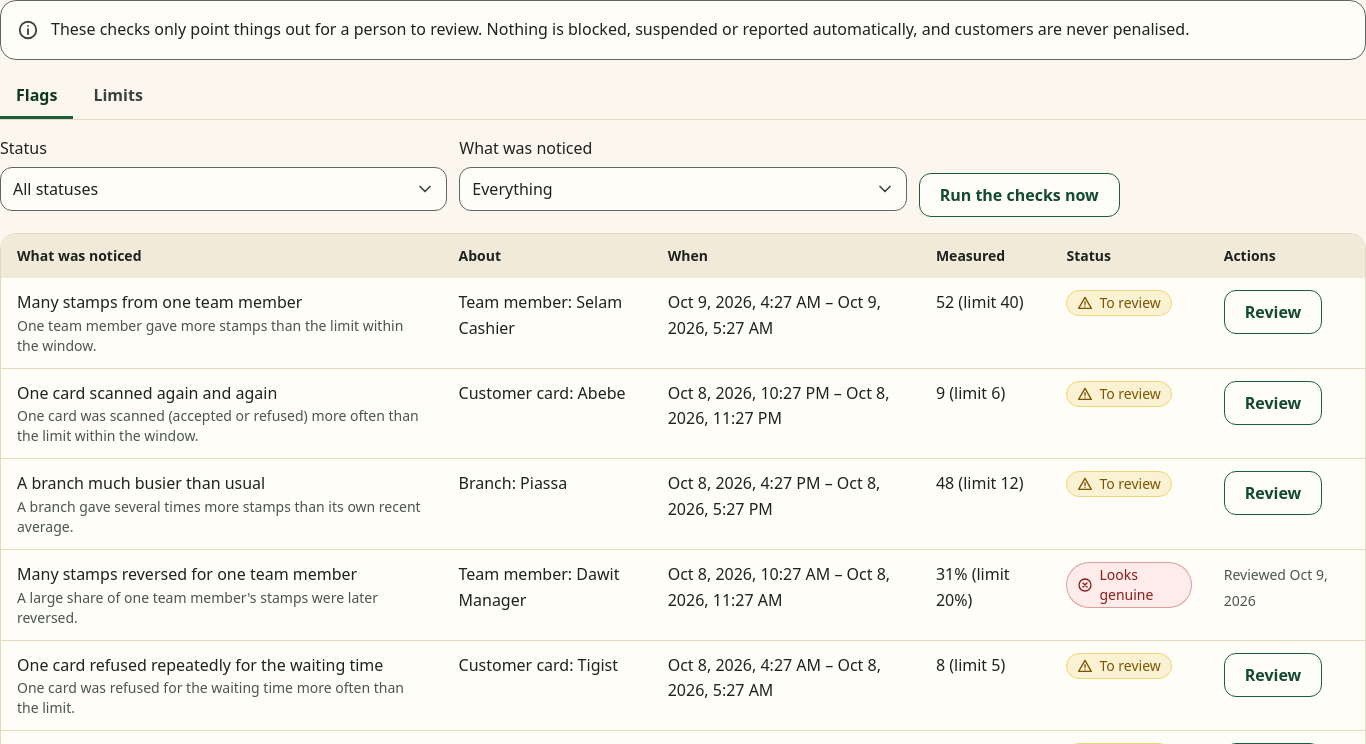
Scenario: flags › lets an owner review a flag once, with a verdict and an optional note
This screenshot has width=1366, height=744.
Click the 1st button "Review" at (1273, 312), box x1=1224 y1=290 x2=1322 y2=334
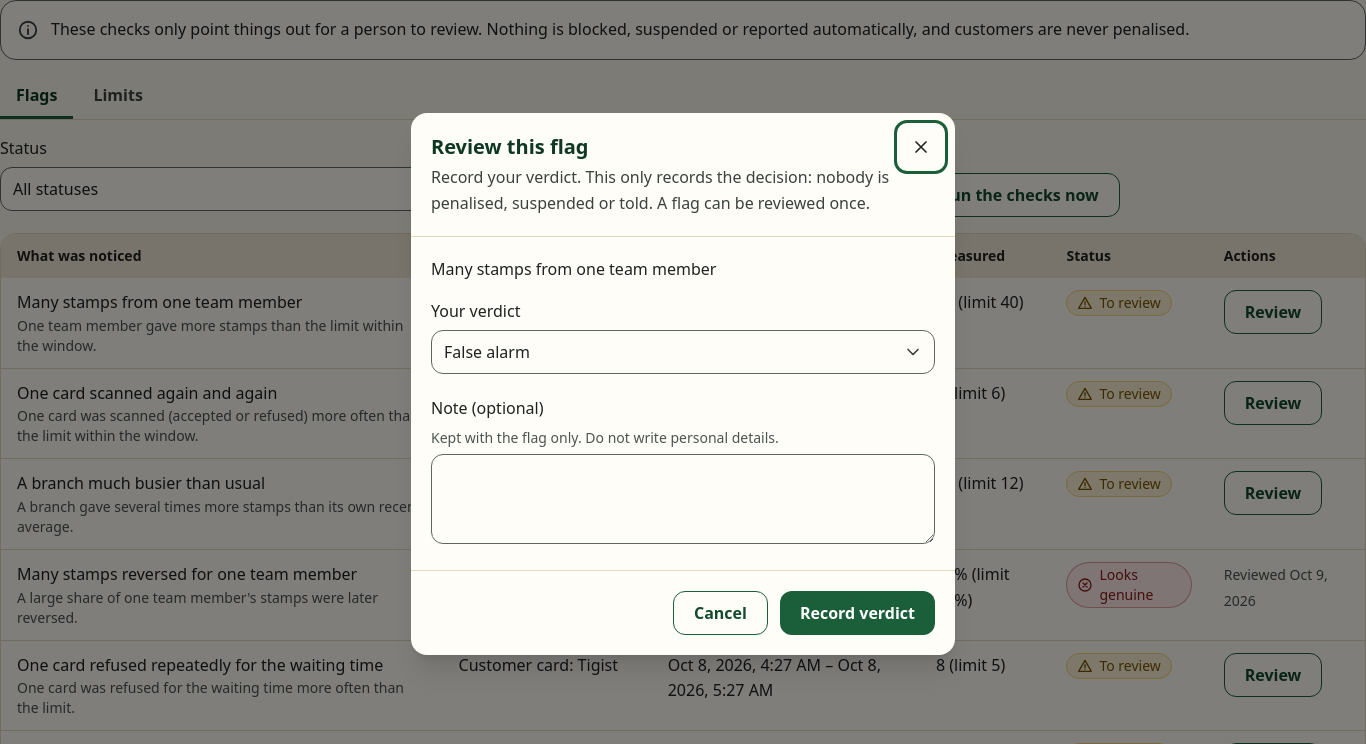
Expected: the text "nobody is penalised, suspended or told" is shown, x1=431 y1=166 x2=889 y2=214
Select "Looks genuine" in the dropdown labelled "Your verdict" at (683, 352), box x1=431 y1=330 x2=935 y2=374
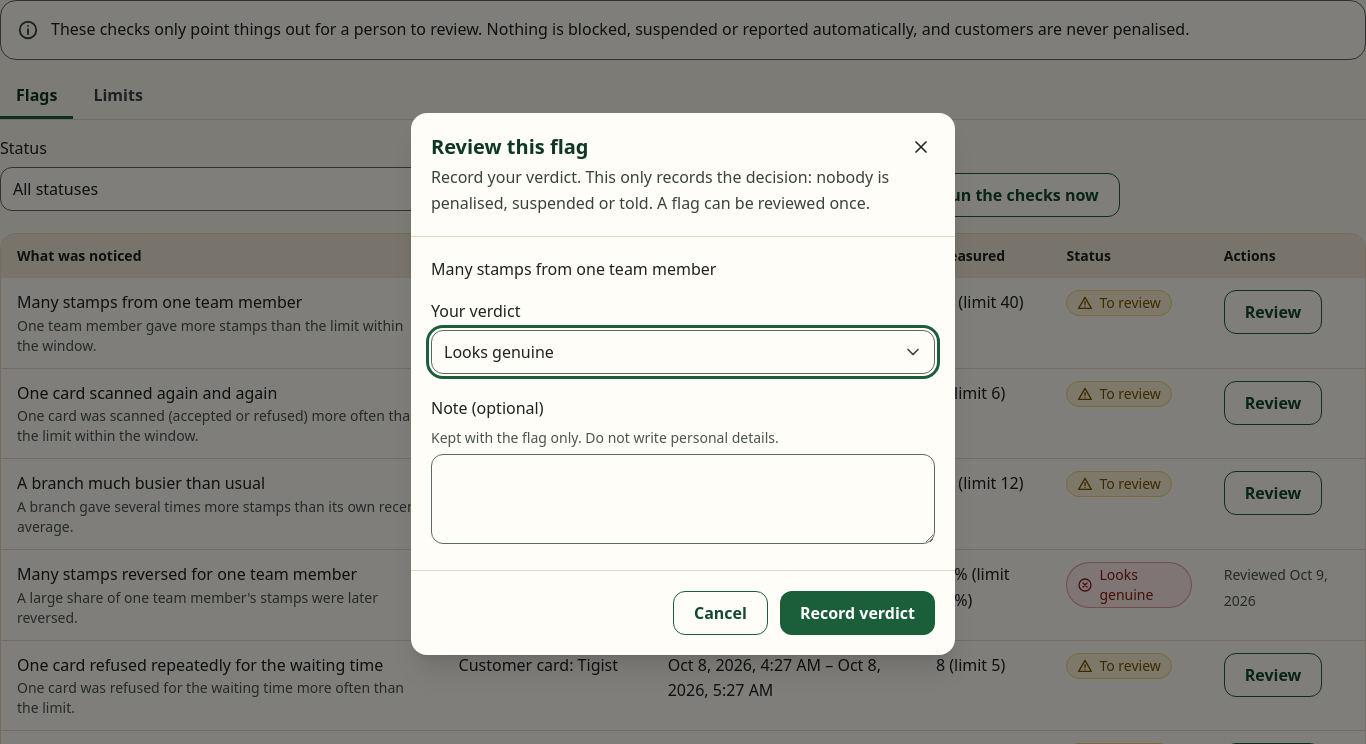
Type "Spoke to the branch." into the text box labelled "Note (optional)" at (683, 499), box x1=431 y1=454 x2=935 y2=544
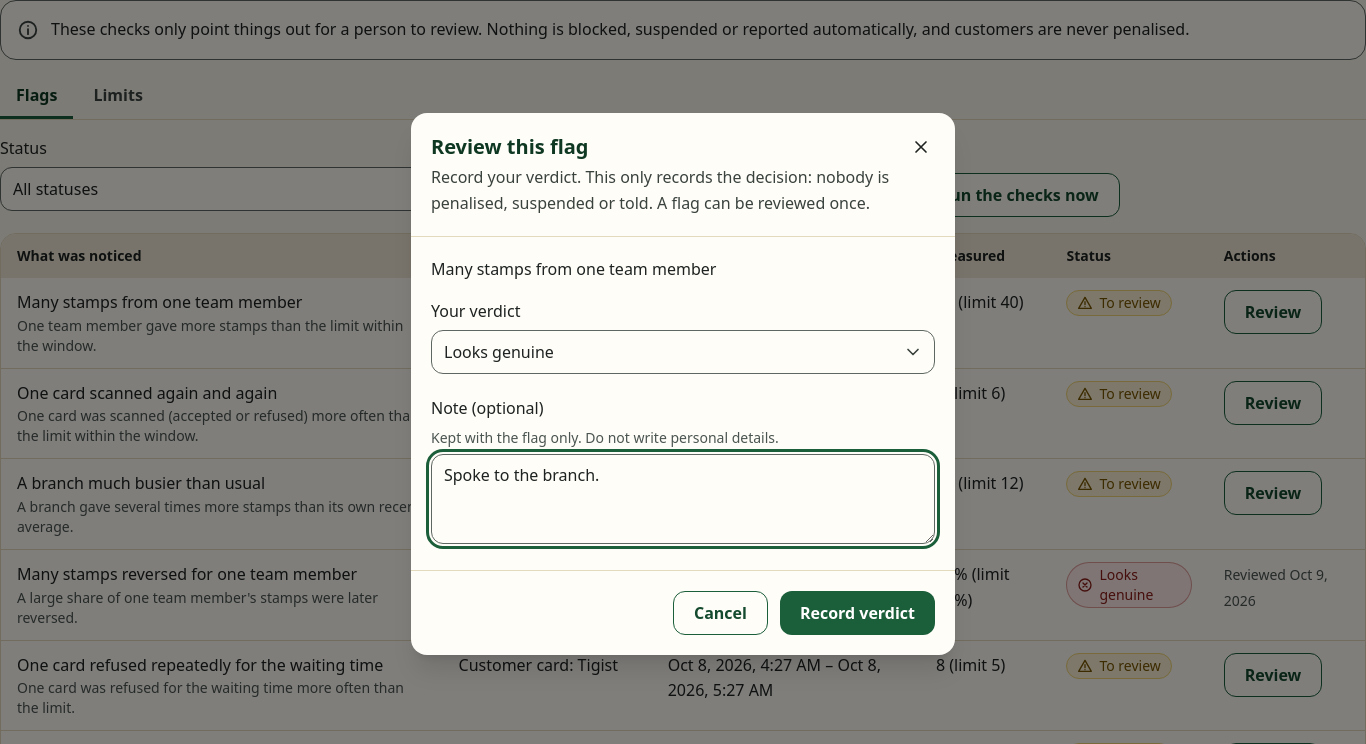
Click the button "Record verdict" at (857, 613), box x1=780 y1=591 x2=935 y2=635
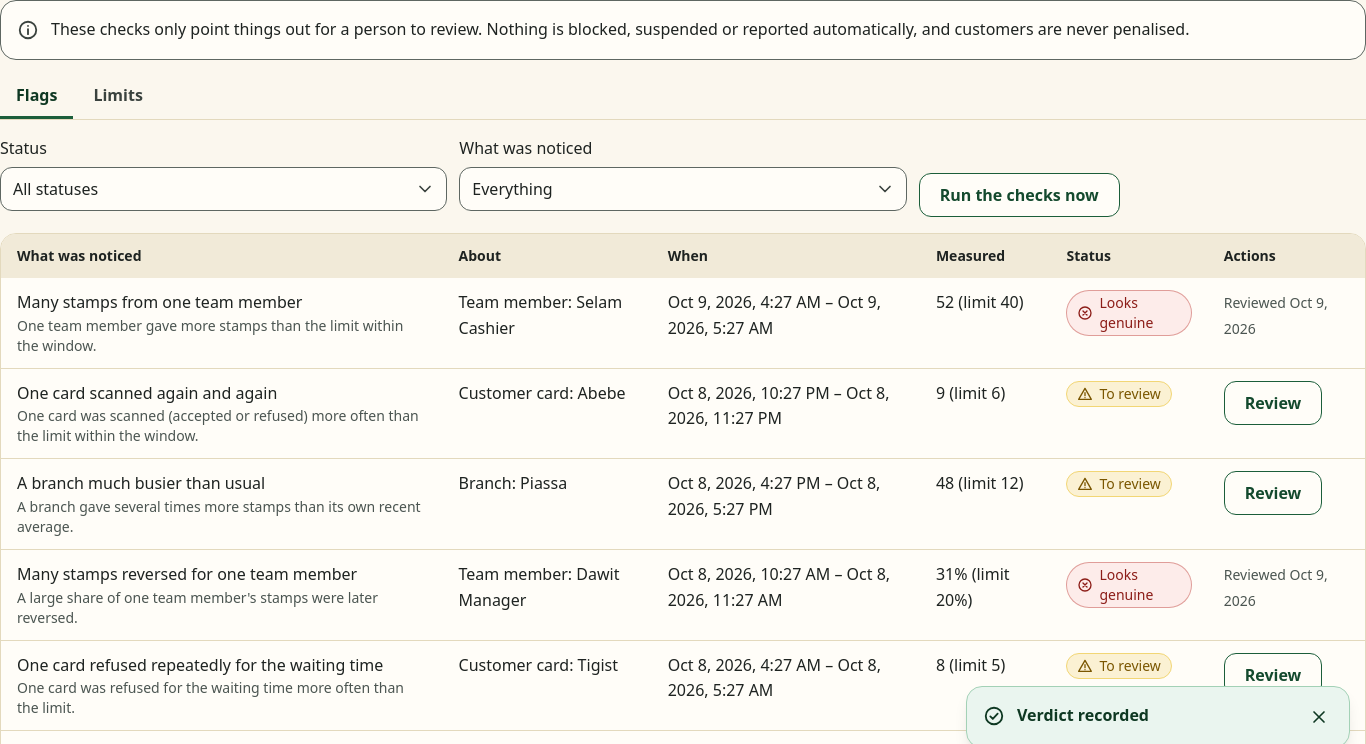
Expected: the text "Verdict recorded" is shown, x1=1017 y1=704 x2=1149 y2=726
